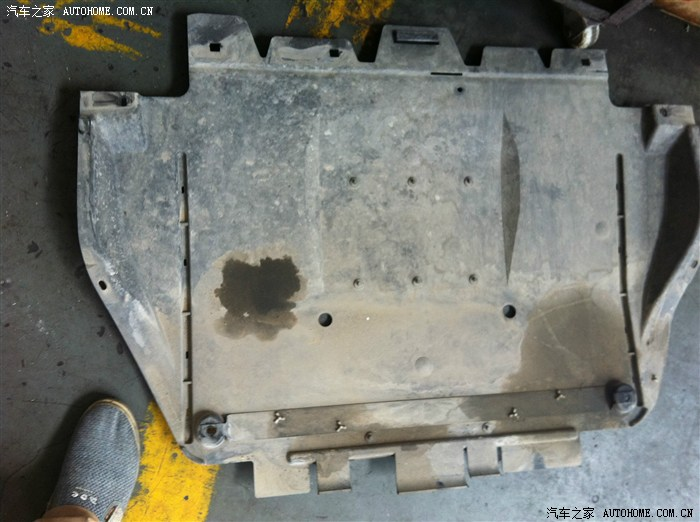oil: (472, 277, 651, 444), (263, 395, 446, 495), (209, 251, 308, 343)
